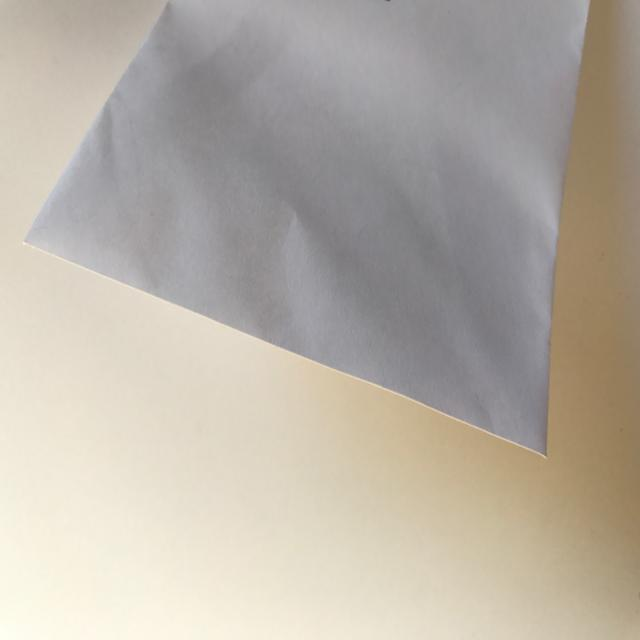paper: (16, 0, 601, 478)
